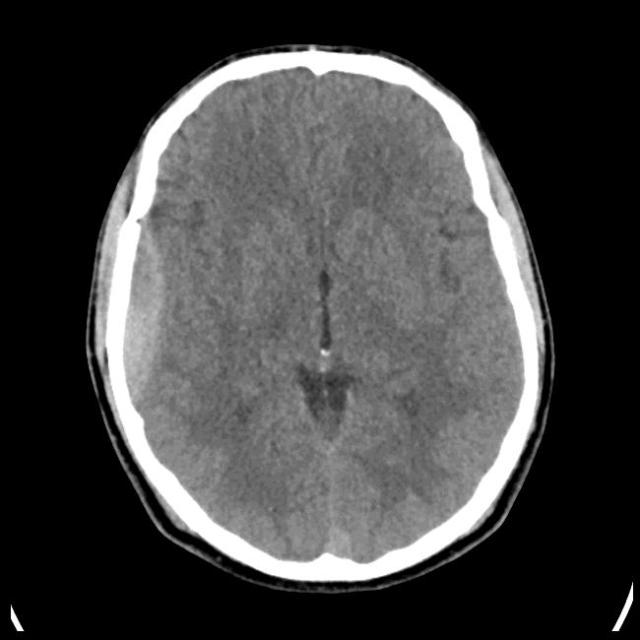lesion: (89, 45, 553, 586)
